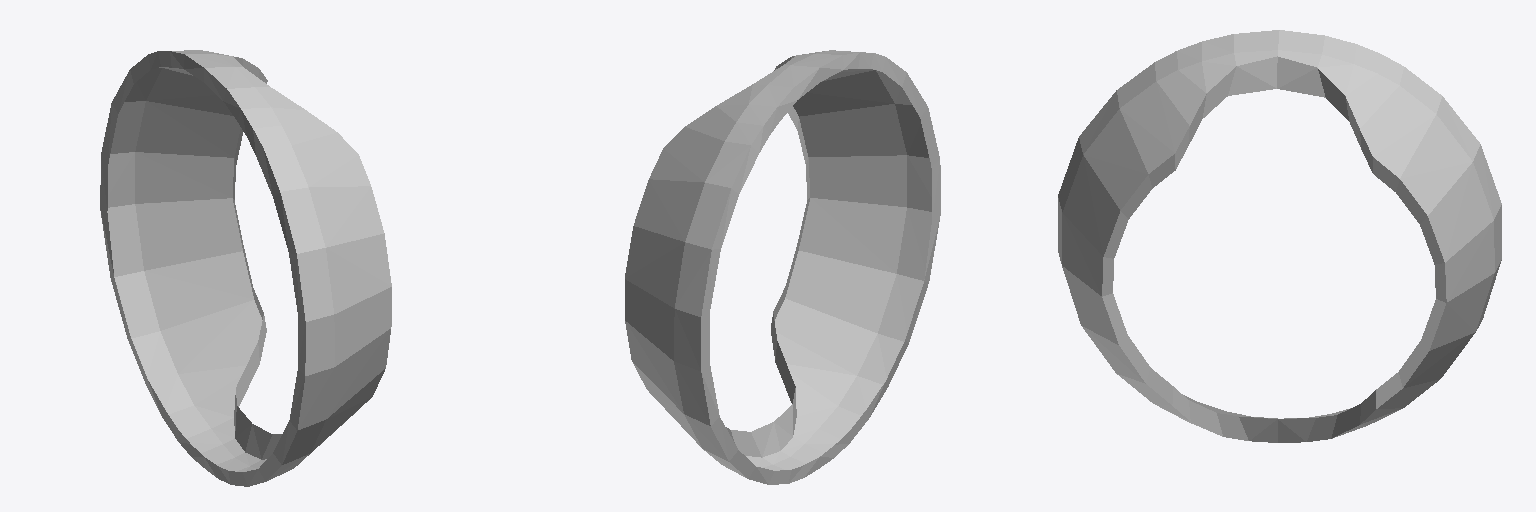
The model's file is RWristRoll.obj.
3 renders of one model, left to right at view 1: azimuth 30°, elevation 25°; view 2: azimuth 150°, elevation 25°; view 3: azimuth 270°, elevation 25°, orthographic.
Parts seen in each view (by area): view 1: RWristRoll_RWristRoll; view 2: RWristRoll_RWristRoll; view 3: RWristRoll_RWristRoll.
Part boxes in pixels (x1,y1,x2,y2): RWristRoll_RWristRoll: (100, 50, 391, 486); RWristRoll_RWristRoll: (625, 50, 940, 484); RWristRoll_RWristRoll: (1058, 30, 1501, 442).
Bounding box in the file's own units: 0.0233 × 0.0724 × 0.0727.